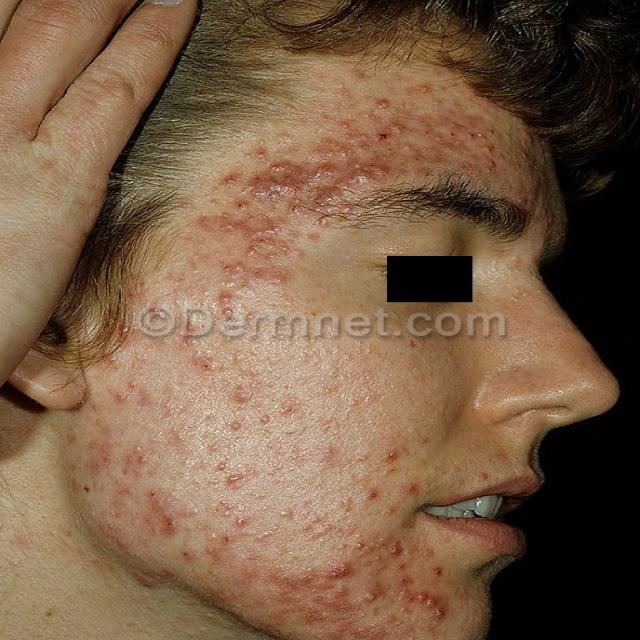Acne: (146, 488, 179, 536), (252, 175, 282, 201), (246, 226, 281, 243), (218, 260, 250, 276), (344, 132, 369, 151), (269, 163, 305, 176), (282, 176, 305, 196), (221, 210, 238, 234), (314, 165, 341, 180), (319, 138, 339, 157), (363, 165, 390, 178), (437, 138, 465, 149), (253, 147, 270, 164), (244, 242, 261, 259), (406, 84, 434, 94), (483, 159, 498, 177), (221, 175, 242, 186), (269, 274, 289, 285), (345, 160, 365, 171), (374, 98, 392, 110), (388, 124, 406, 136), (374, 131, 392, 143), (275, 239, 290, 253), (334, 178, 351, 190), (465, 130, 485, 140), (448, 121, 467, 131), (480, 144, 497, 155), (463, 114, 482, 123), (337, 121, 354, 131), (486, 127, 500, 136), (529, 186, 538, 200)
